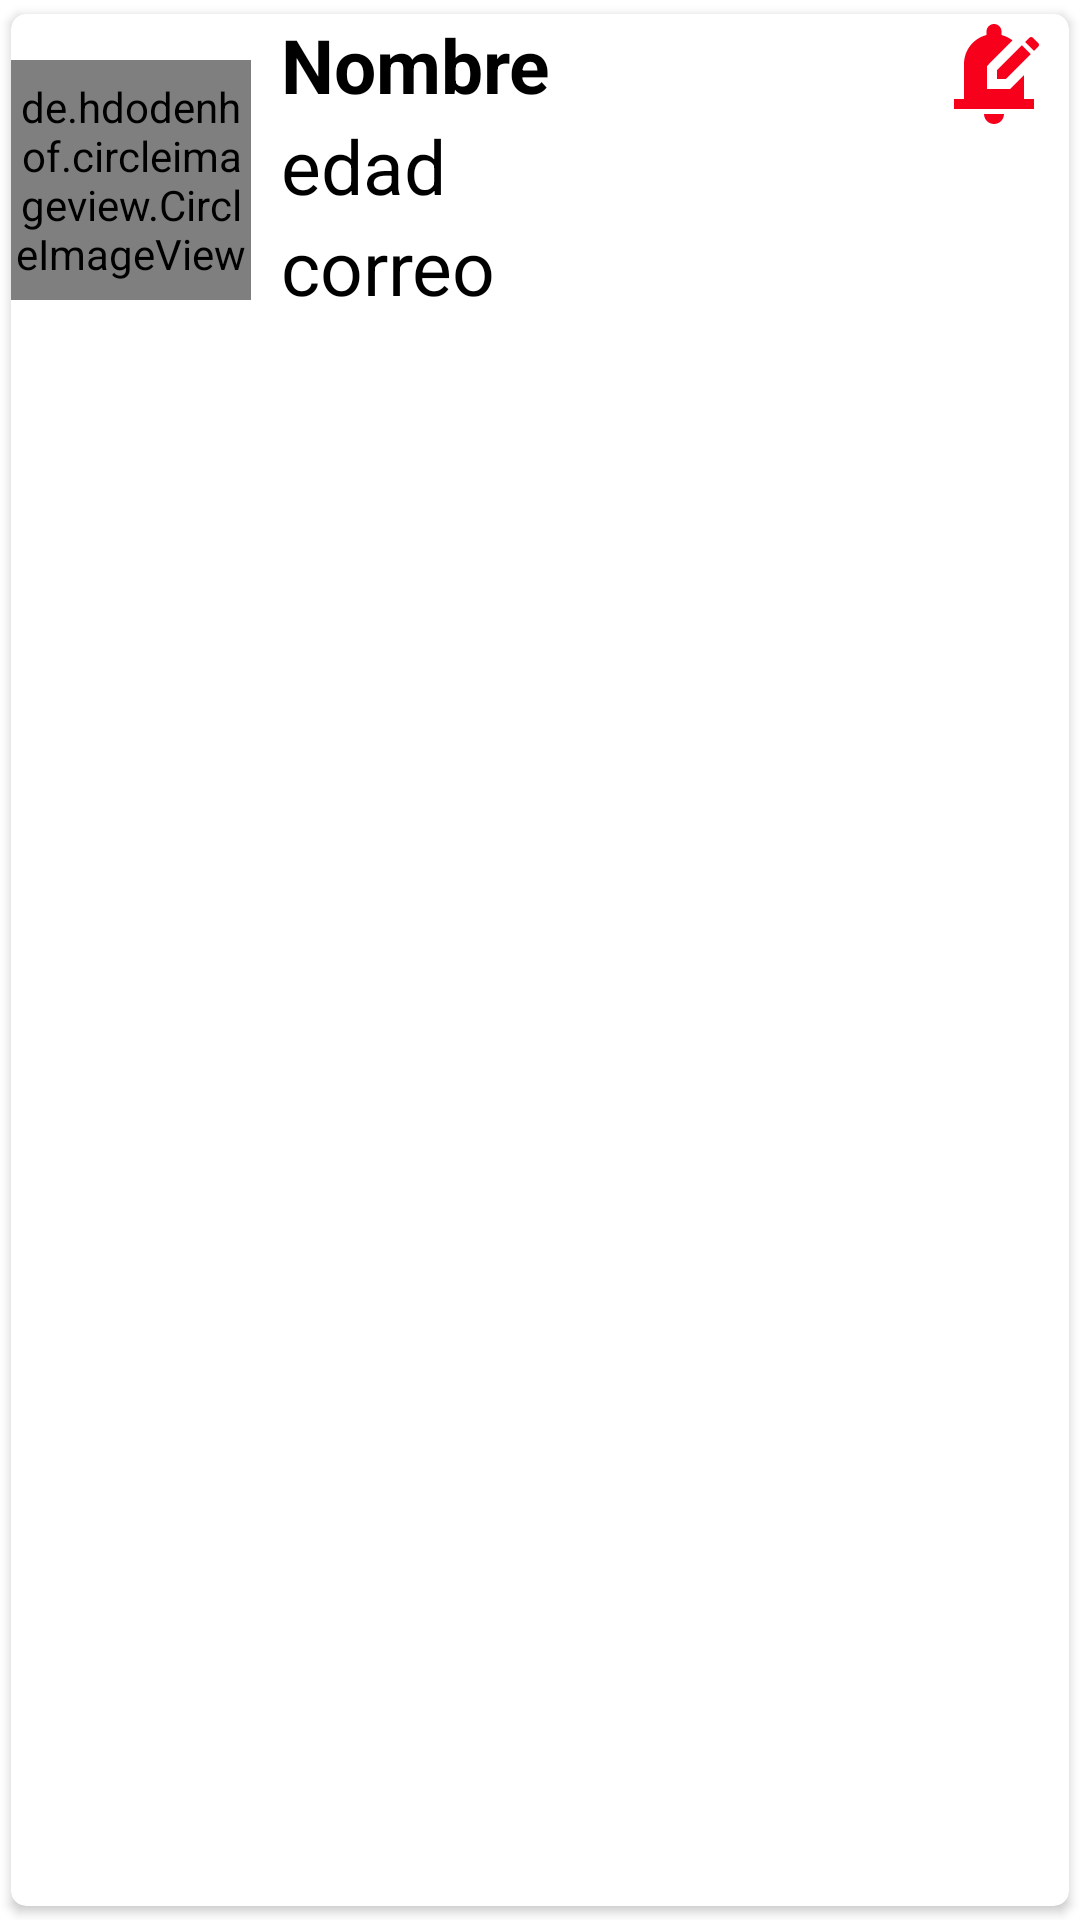

Icons on this 1080w x 1920h Android screen, each with its box as (x1, y1, x2, y2):
edit notifications: (954, 23, 1069, 124)
